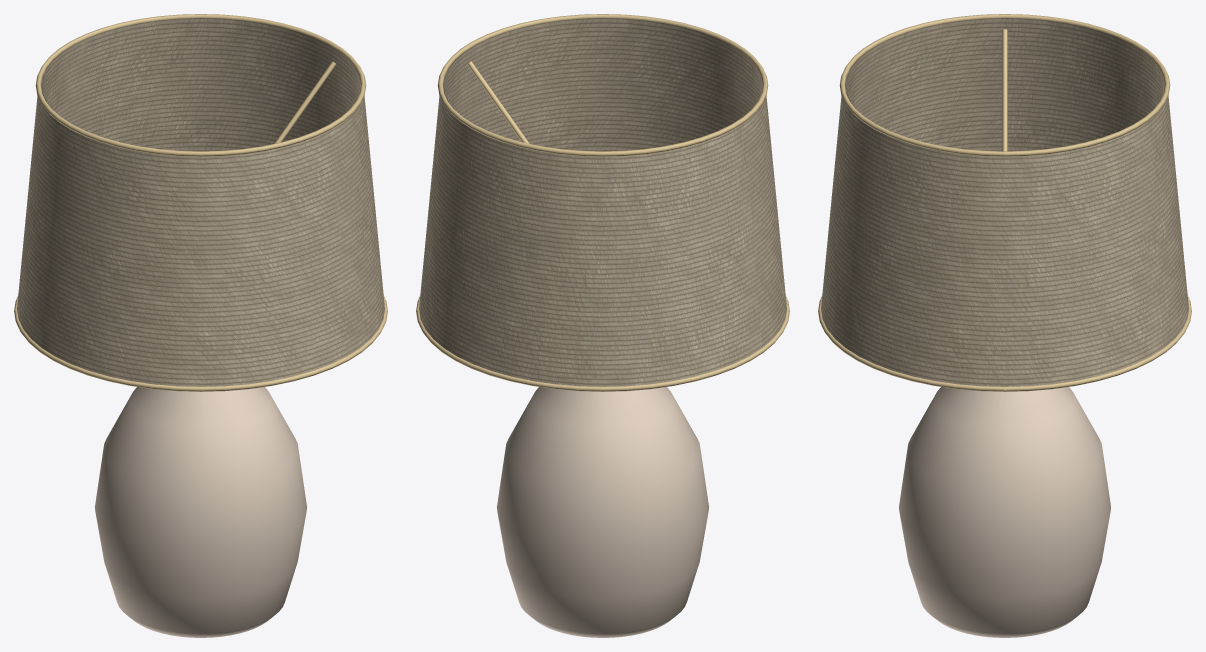
The model's file is lamp_table_01.glb.
The picture shows the model from 3 angles, left to right: view 1: azimuth 30°, elevation 25°; view 2: azimuth 150°, elevation 25°; view 3: azimuth 270°, elevation 25°; orthographic projection.
Parts seen in each view (by area): view 1: pantalla, base, pantalla_int, pantalla_aro.001, pantalla_aro, arpa; view 2: pantalla, base, pantalla_int, pantalla_aro.001, pantalla_aro, arpa; view 3: pantalla, base, pantalla_int, pantalla_aro.001, pantalla_aro, arpa.001.
Part boxes in pixels (x1,y1,x2,y2): pantalla: [17, 61, 384, 386]; base: [94, 387, 307, 637]; pantalla_int: [41, 18, 360, 151]; pantalla_aro.001: [35, 14, 366, 156]; pantalla_aro: [14, 296, 387, 391]; arpa: [274, 61, 336, 143]; pantalla: [419, 61, 786, 386]; base: [496, 387, 709, 637]; pantalla_int: [443, 18, 762, 151]; pantalla_aro.001: [437, 14, 768, 156]; pantalla_aro: [416, 296, 789, 391]; arpa: [467, 61, 529, 143]; pantalla: [821, 61, 1188, 386]; base: [899, 387, 1110, 637]; pantalla_int: [845, 18, 1164, 151]; pantalla_aro.001: [839, 14, 1170, 156]; pantalla_aro: [818, 296, 1191, 391]; arpa.001: [1002, 29, 1007, 151].
Size of the model in its own units: 0.345 by 0.5322 by 0.345.
Materials: 5 (1 with a texture image).
